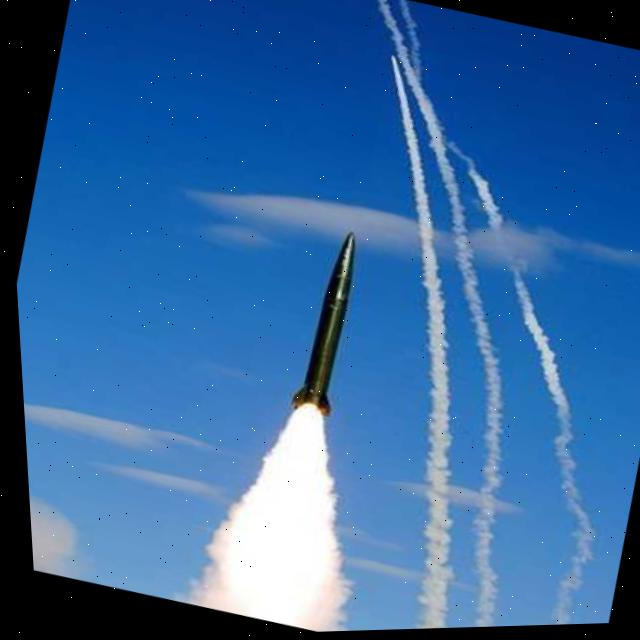missile: (277, 224, 376, 420)
